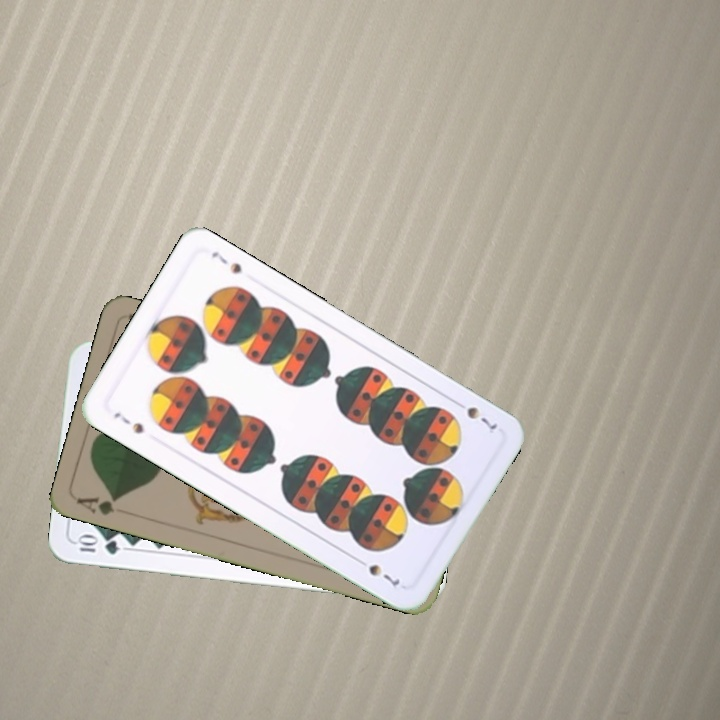G10: (72, 533, 122, 557)
GA: (73, 492, 121, 518)
S7: (449, 396, 501, 433), (109, 408, 146, 437)
